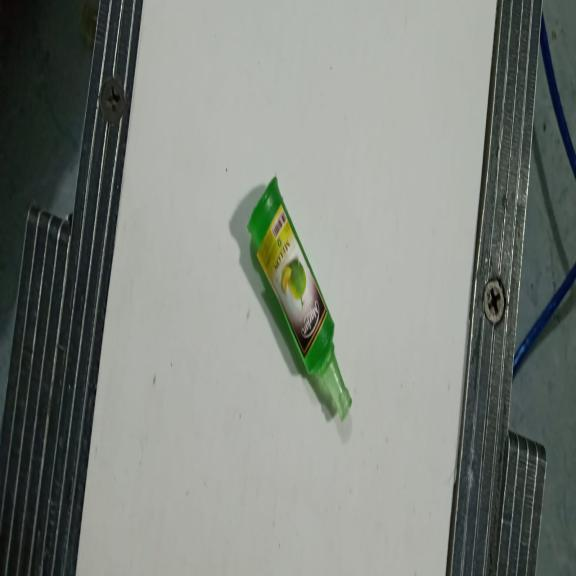Plastik: (248, 176, 352, 421)
